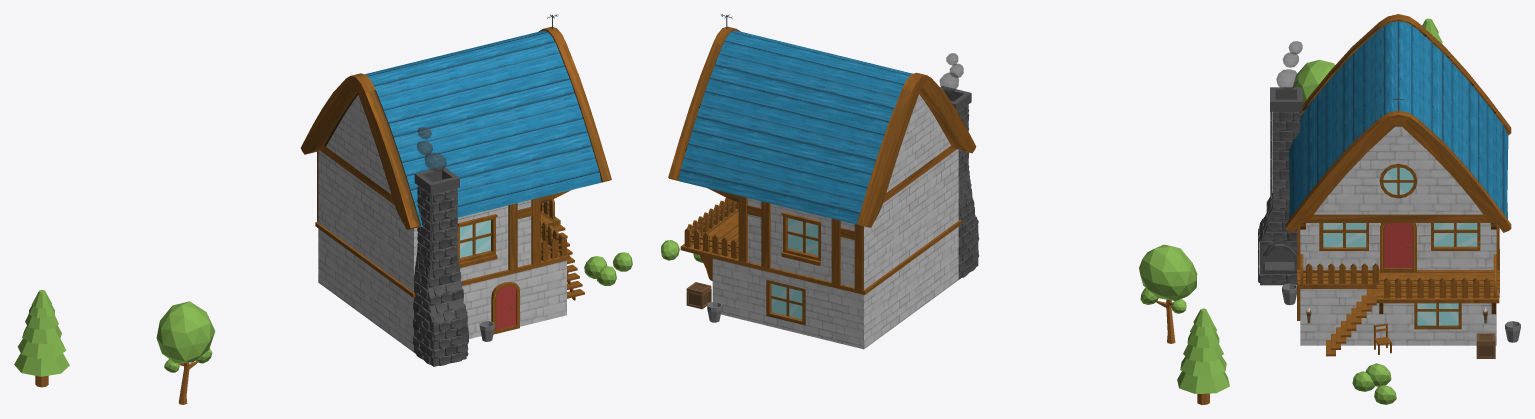
Rendered from Blacksmith's House.fbx.
3 renders of one model, left to right at view 1: azimuth 30°, elevation 25°; view 2: azimuth 150°, elevation 25°; view 3: azimuth 270°, elevation 25°, orthographic. The views are drawn at different scales.
Visible parts, largest first — view 1: House, Oven Stones, Tree 1, Tree 2, Bushes, Smoke; view 2: House, Tree 1, Tree 2, Oven Stones, Box, Smoke; view 3: House, Oven Stones, Bushes, Tree 1, Smoke, Box, Bucket2, Chair, Bucket1.
Part boxes in pixels (x1,y1,x2,y2): House: [301, 14, 611, 366]; Oven Stones: [413, 186, 469, 365]; Tree 1: [156, 301, 215, 404]; Tree 2: [14, 290, 69, 387]; Bushes: [584, 252, 632, 285]; Smoke: [417, 127, 446, 171]; House: [668, 14, 978, 349]; Tree 1: [1139, 244, 1197, 343]; Tree 2: [1177, 308, 1229, 404]; Oven Stones: [958, 105, 979, 277]; Box: [686, 282, 711, 309]; Smoke: [939, 53, 963, 92]; House: [1260, 14, 1511, 356]; Oven Stones: [1258, 111, 1299, 283]; Bushes: [1352, 363, 1396, 404]; Tree 1: [1293, 59, 1334, 104]; Smoke: [1276, 41, 1302, 90]; Box: [1476, 333, 1495, 358]; Bucket2: [1505, 321, 1520, 342]; Chair: [1374, 323, 1391, 354]; Bucket1: [1282, 283, 1296, 305].
Size of the model in its own units: 2020 by 872 by 757.
Materials: 14 (4 with a texture image).
